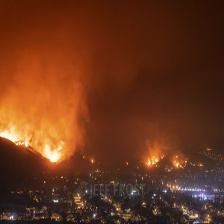fire: (2, 127, 68, 162), (173, 158, 189, 171), (143, 158, 164, 166)
smoke: (1, 2, 209, 130)
